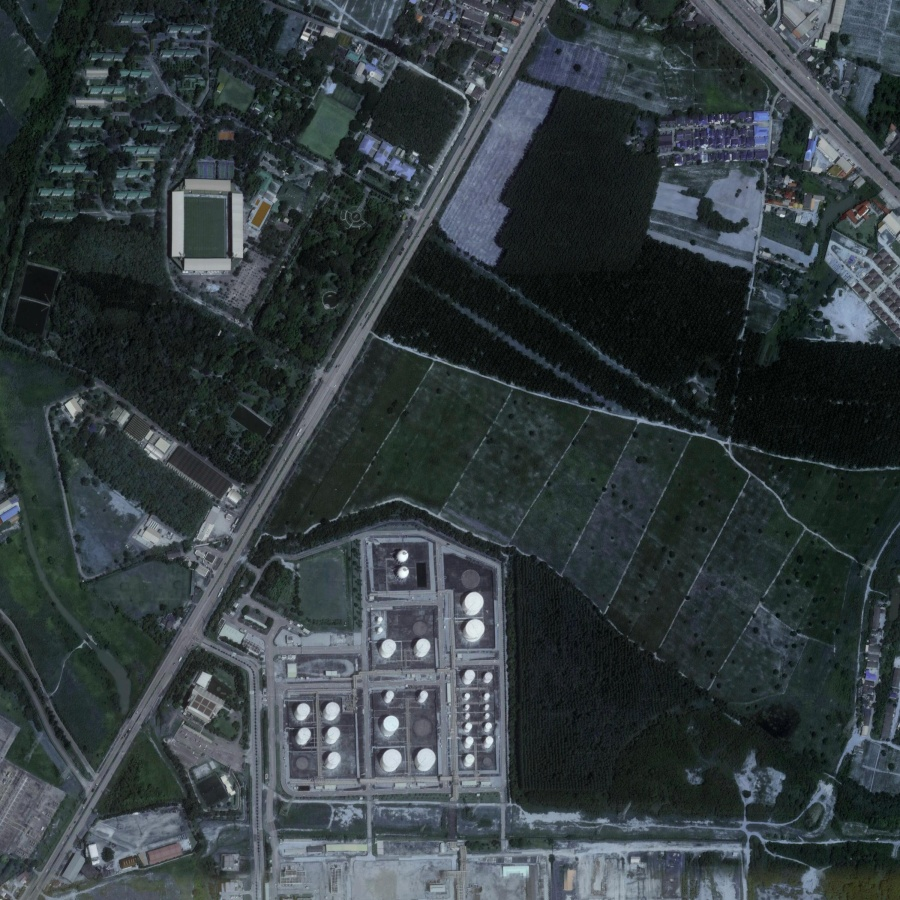PowerPlant: (231, 527, 509, 810)
